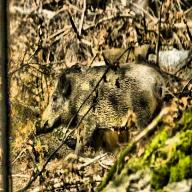boar: (36, 58, 166, 152)
